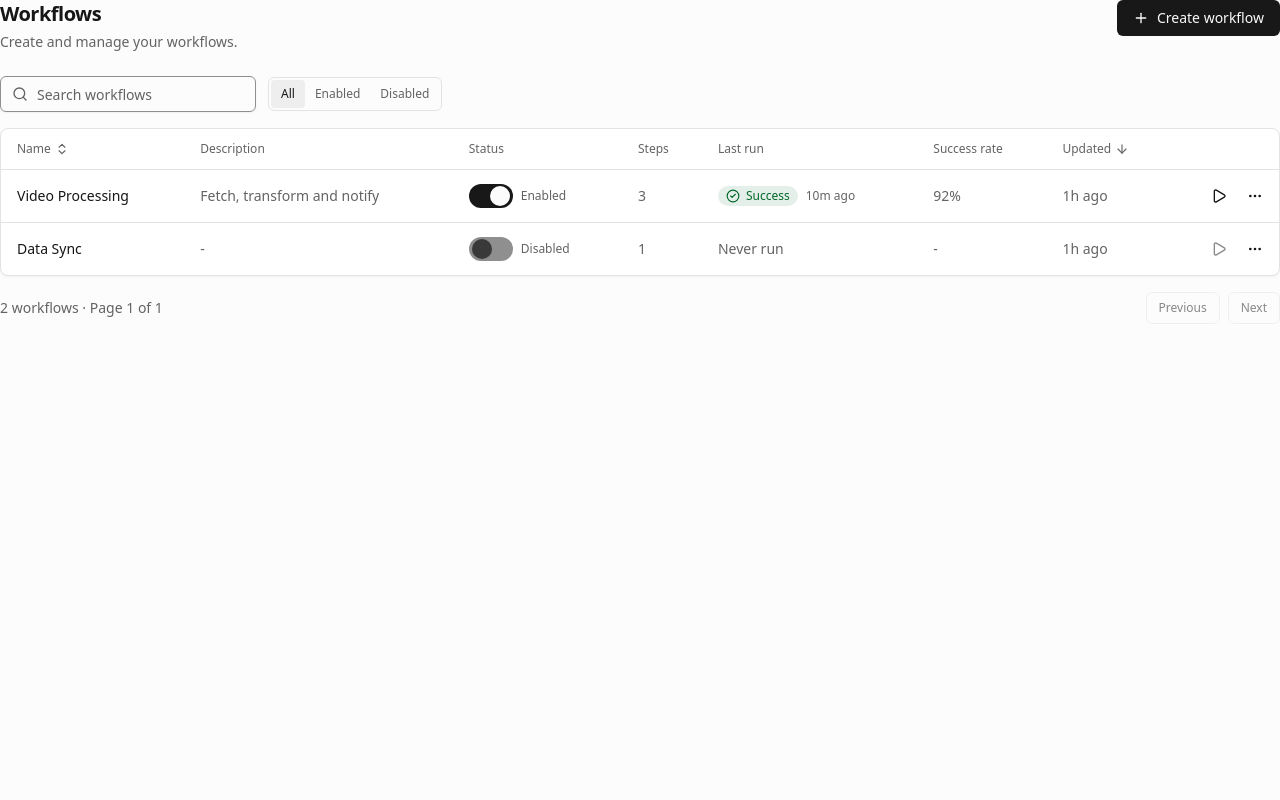
Test: WorkflowsPage actions › only deletes after confirmation
The width and height of the screenshot is (1280, 800).
Click the button named "Actions for Video Processing": {"x": 1255, "y": 196} 1239,180 -> 1271,212
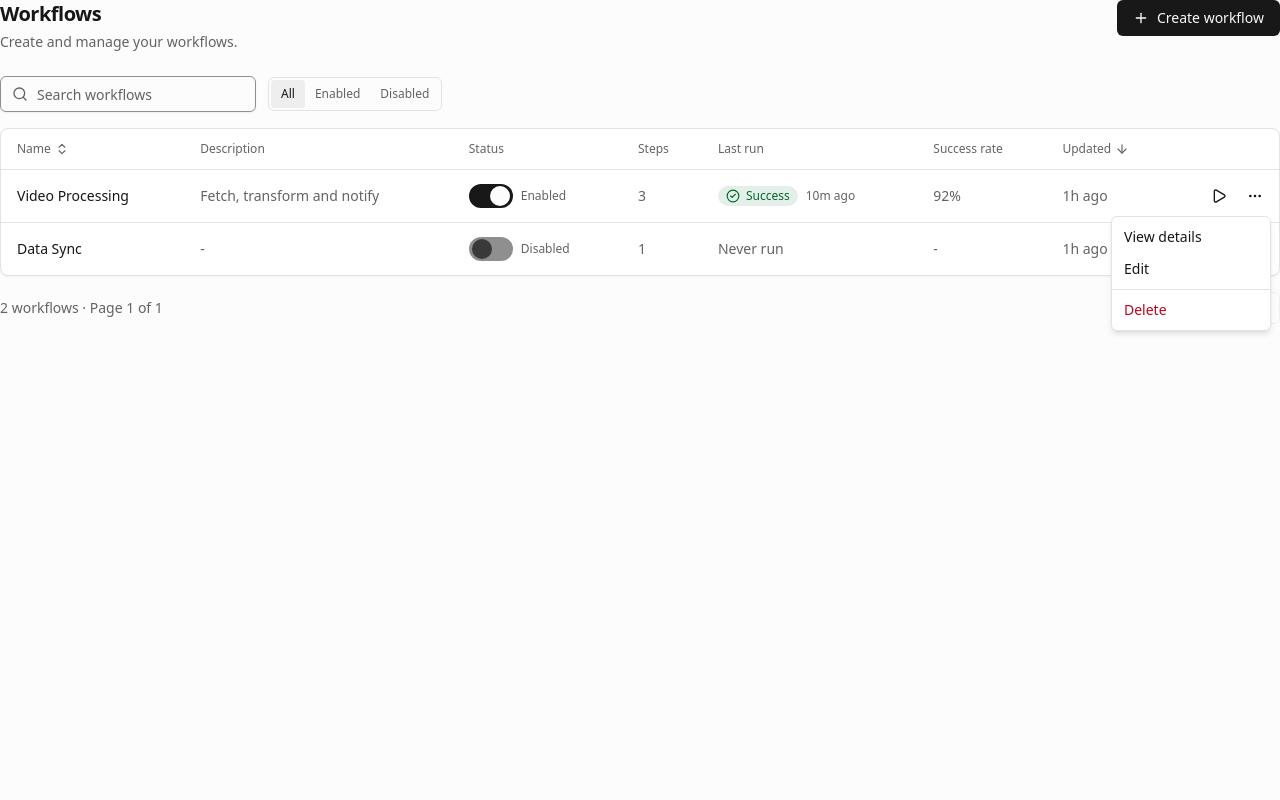
Click the menu item "Delete": {"x": 1145, "y": 310} 1124,300 -> 1167,319
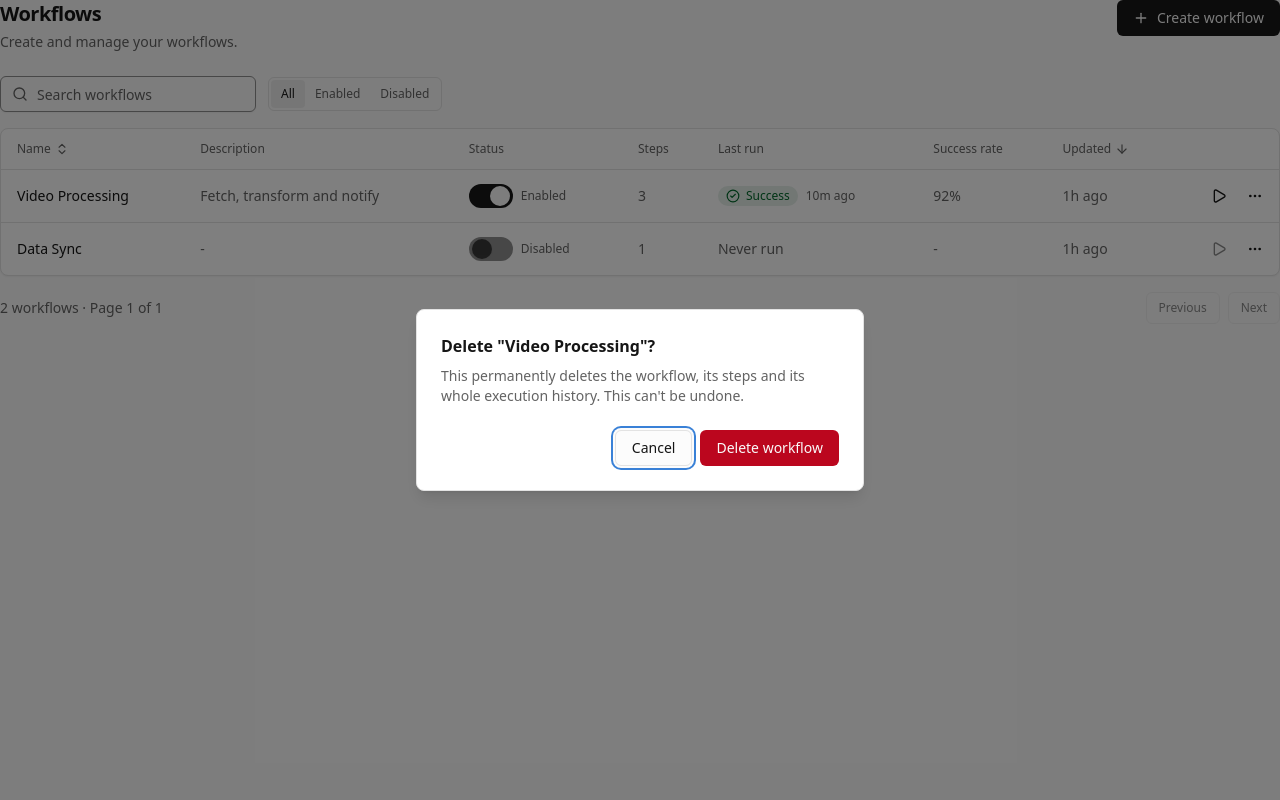
Check: the heading "Delete \"Video Processing\"?" is shown, box 441,335 -> 655,357
Click the button "Cancel": {"x": 654, "y": 448} 615,430 -> 692,466
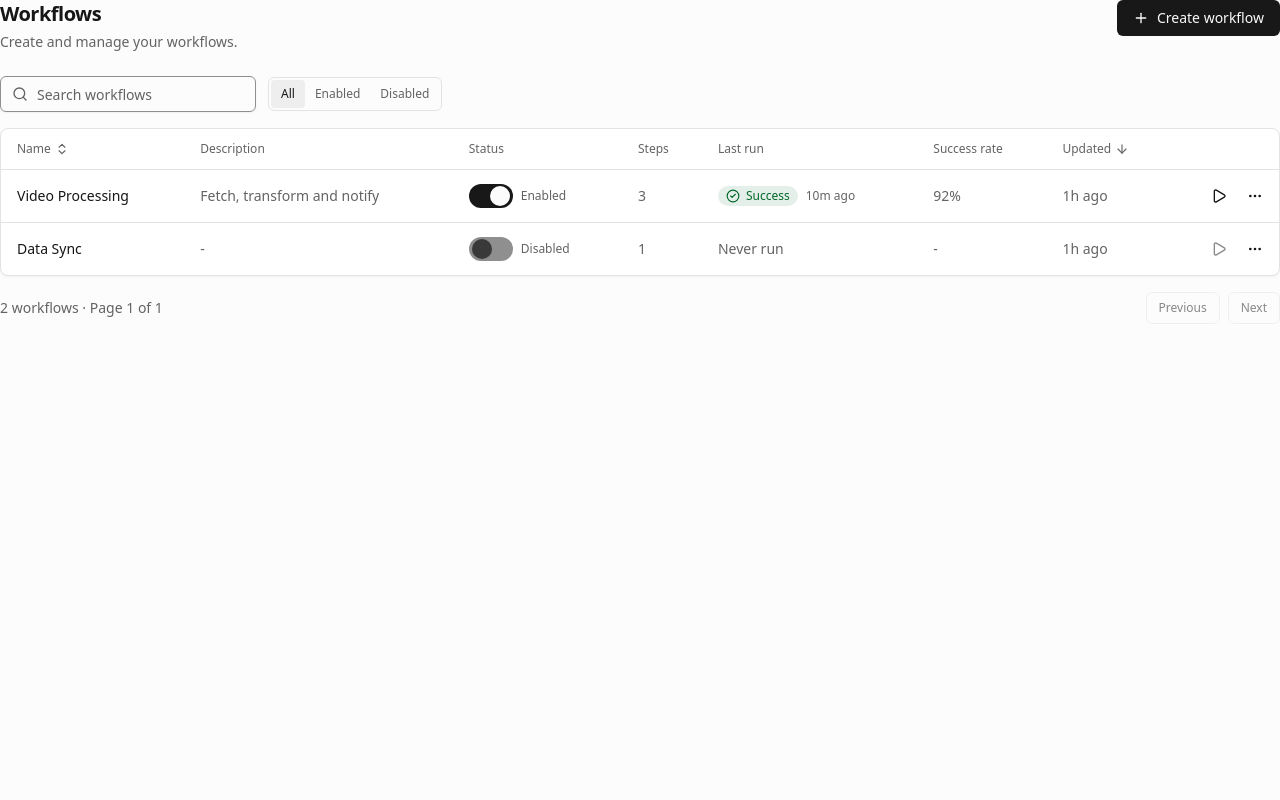
Check: the dialog is gone
Click the button named "Actions for Video Processing": {"x": 1255, "y": 196} 1239,180 -> 1271,212
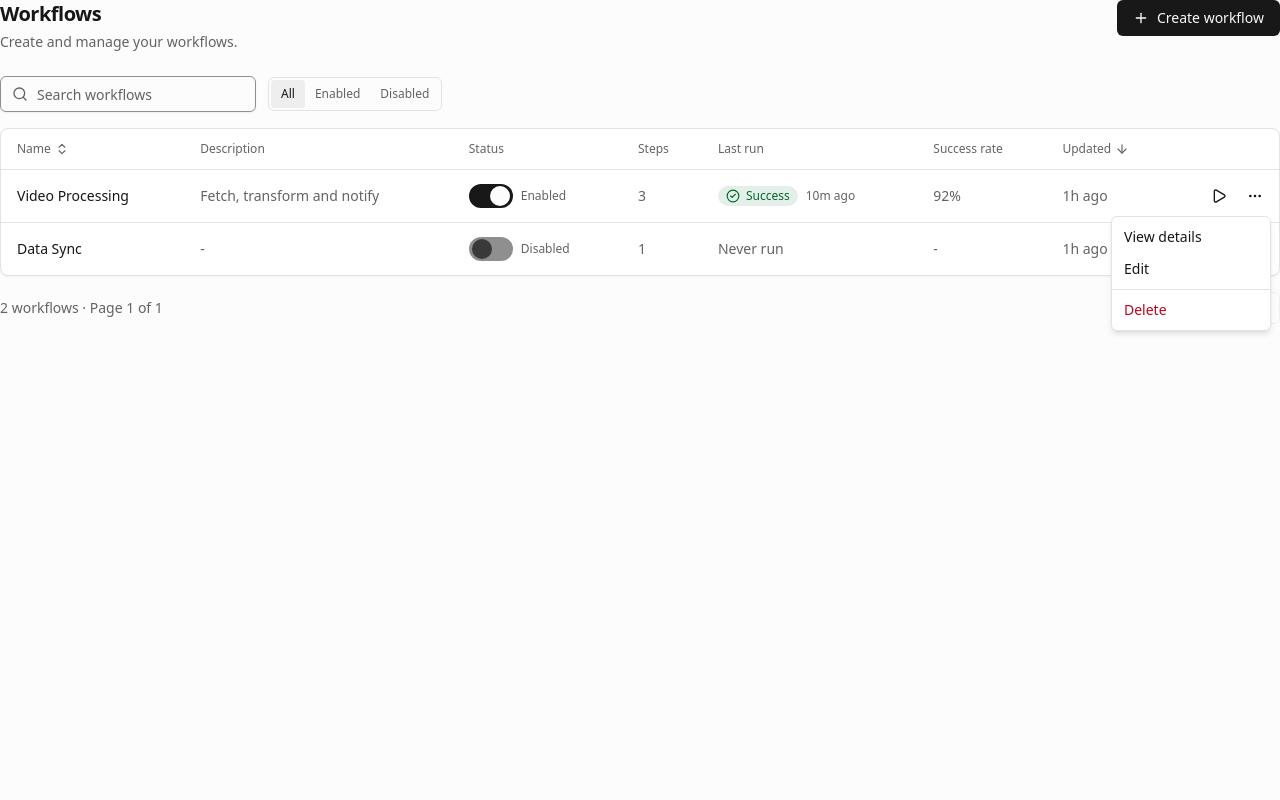
Click the menu item "Delete": {"x": 1145, "y": 310} 1124,300 -> 1167,319
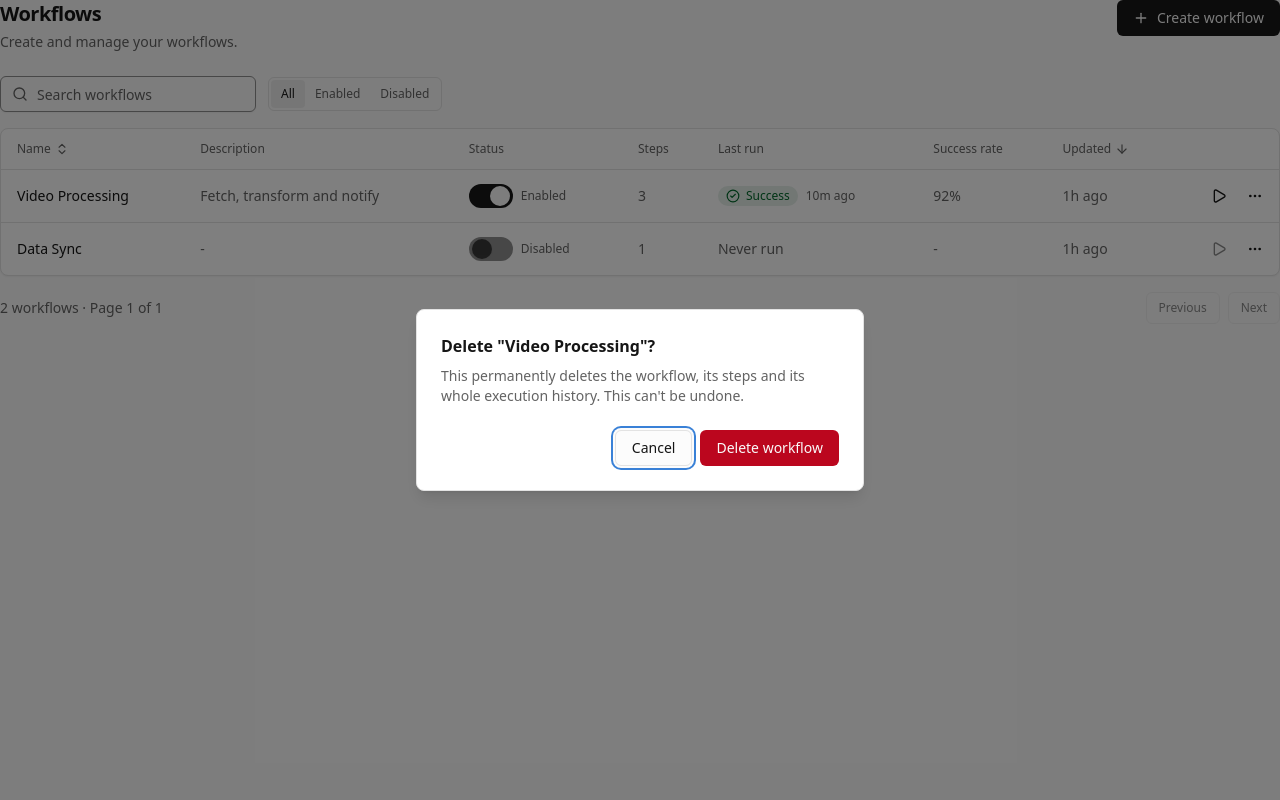
Click the button "Delete workflow": {"x": 770, "y": 448} 700,430 -> 839,466
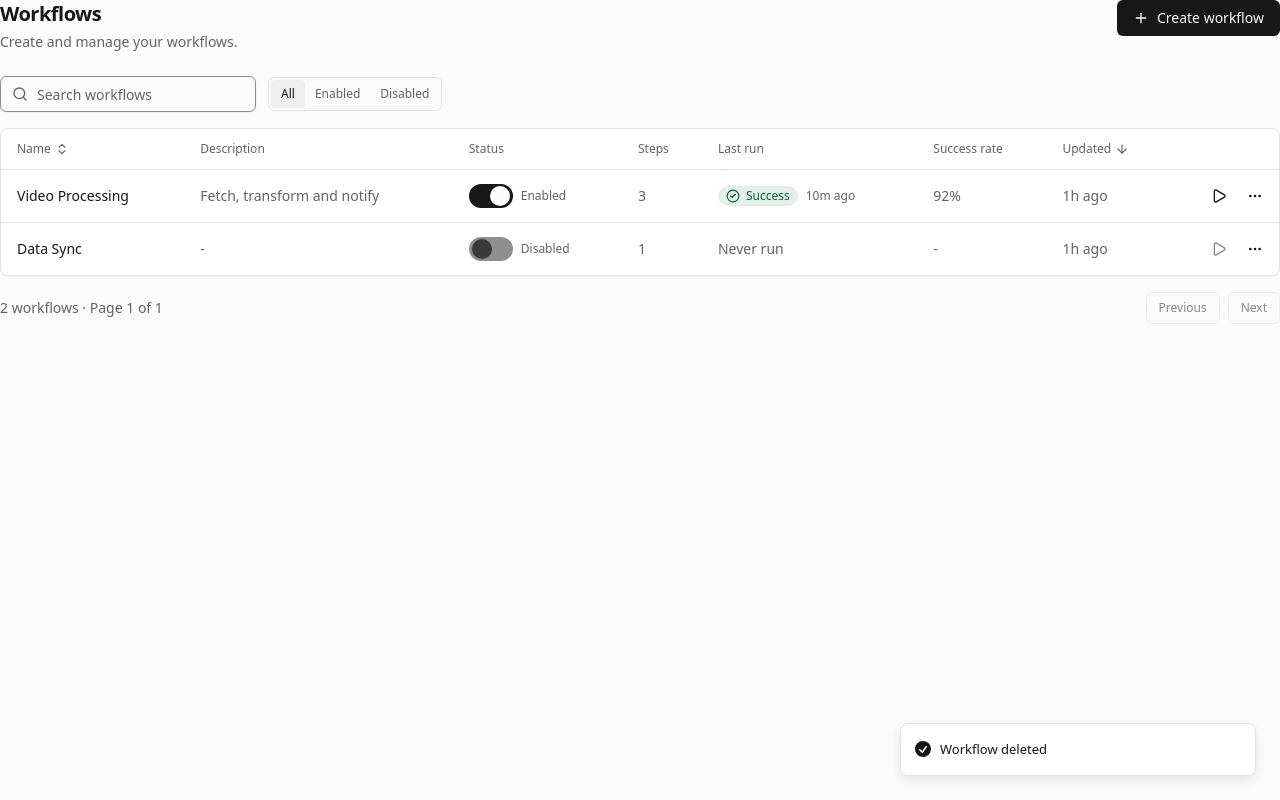
Check: the text "Workflow deleted" is shown, box 940,740 -> 1047,759
